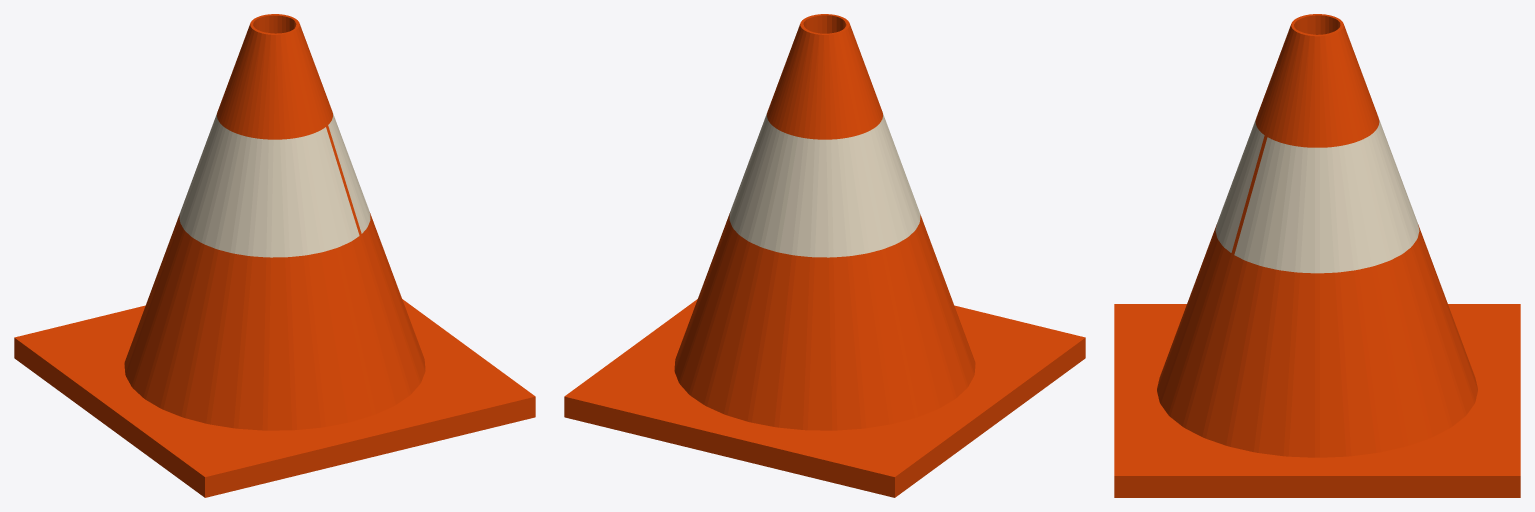
Rendered from Cone_short.fbx.
3 renders of one model, left to right at view 1: azimuth 30°, elevation 25°; view 2: azimuth 150°, elevation 25°; view 3: azimuth 270°, elevation 25°, orthographic. The views are drawn at different scales.
Visible parts, largest first — view 1: TrafficCone_Short; view 2: TrafficCone_Short; view 3: TrafficCone_Short.
Boxes of the visible parts, x1,y1,x2,y2 form: TrafficCone_Short: (14,14,535,497); TrafficCone_Short: (564,14,1085,497); TrafficCone_Short: (1114,14,1520,497).
Size of the model in its own units: 200 by 210 by 200.
